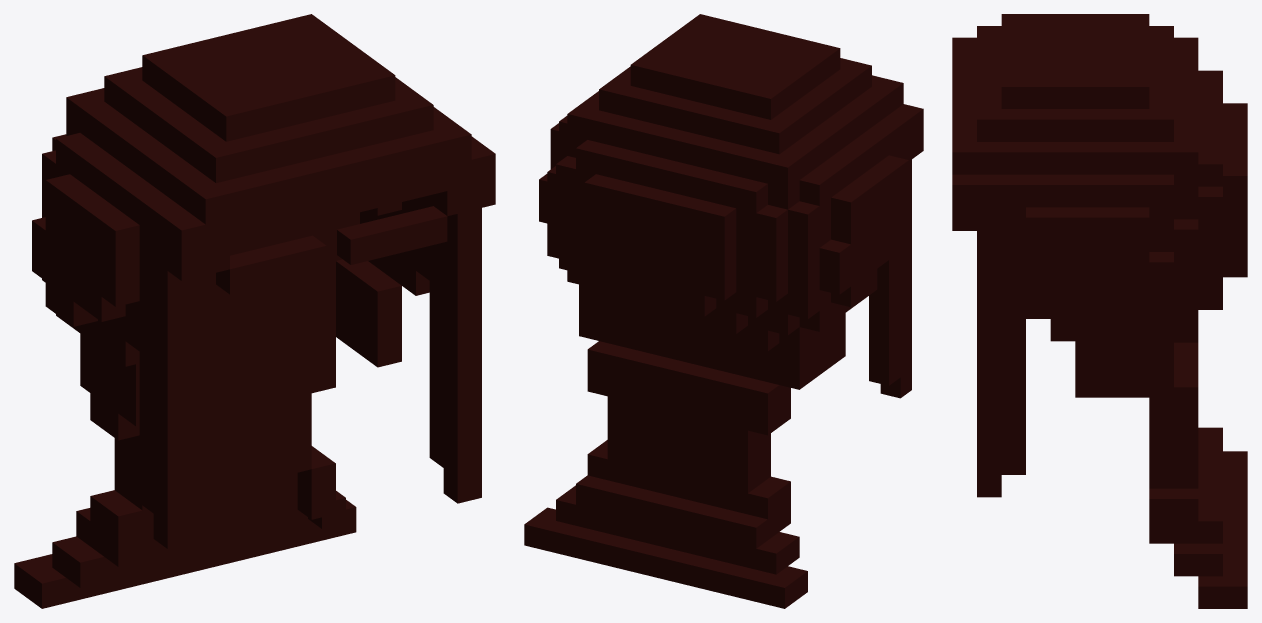
File: Union_35.fbx
3 renders of one model, left to right at view 1: azimuth 30°, elevation 25°; view 2: azimuth 150°, elevation 25°; view 3: azimuth 270°, elevation 25°, orthographic. The views are drawn at different scales.
Parts seen in each view (by area): view 1: Union_35; view 2: Union_35; view 3: Union_35.
Boxes of the visible parts, <box> form: Union_35: <box>14,14,495,608</box>; Union_35: <box>524,14,923,608</box>; Union_35: <box>952,14,1247,608</box>.
Bounding box in the file's own units: 15 × 22 × 12.
1 material, 1 textured.
